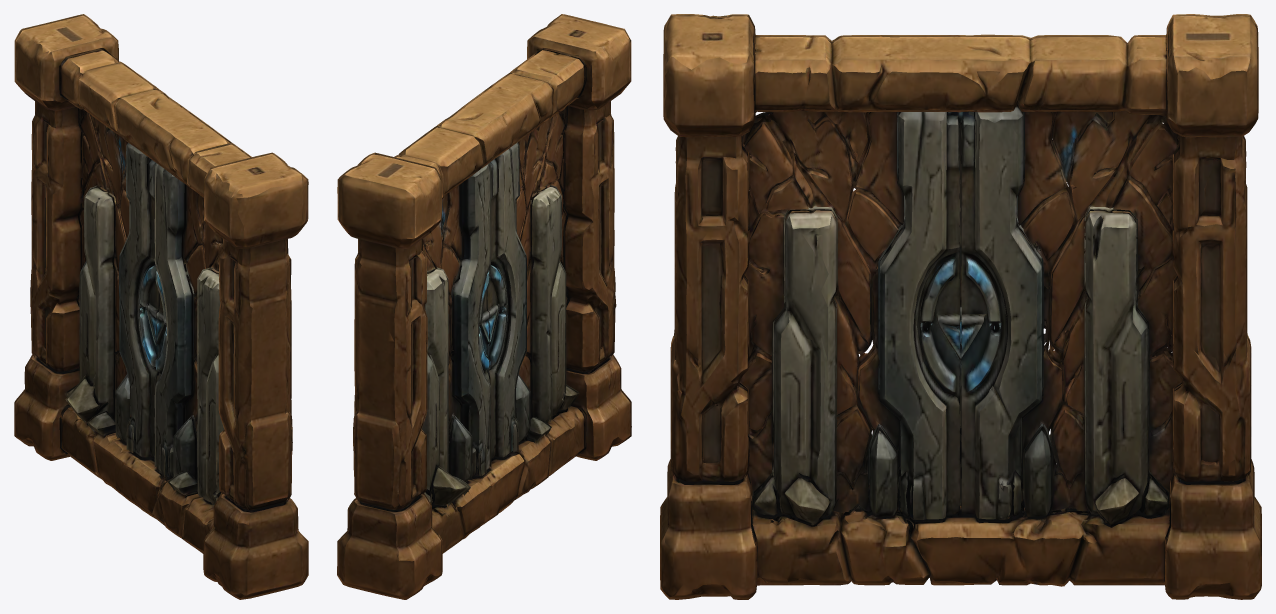
Rendered from MartianWall_RuinPanel_A_UnrealReady.glb.
The picture shows the model from 3 angles, left to right: view 1: azimuth 30°, elevation 25°; view 2: azimuth 150°, elevation 25°; view 3: azimuth 270°, elevation 25°; orthographic projection. The views are drawn at different scales.
Parts seen in each view (by area): view 1: MartianWall_RuinPanel_A_UnrealReady; view 2: MartianWall_RuinPanel_A_UnrealReady; view 3: MartianWall_RuinPanel_A_UnrealReady.
Boxes of the visible parts, x1,y1,x2,y2 form: MartianWall_RuinPanel_A_UnrealReady: [14, 14, 308, 599]; MartianWall_RuinPanel_A_UnrealReady: [337, 14, 631, 599]; MartianWall_RuinPanel_A_UnrealReady: [660, 14, 1261, 599].
Size of the model in its own units: 1.2 by 6 by 6.
1 material, 1 textured.
